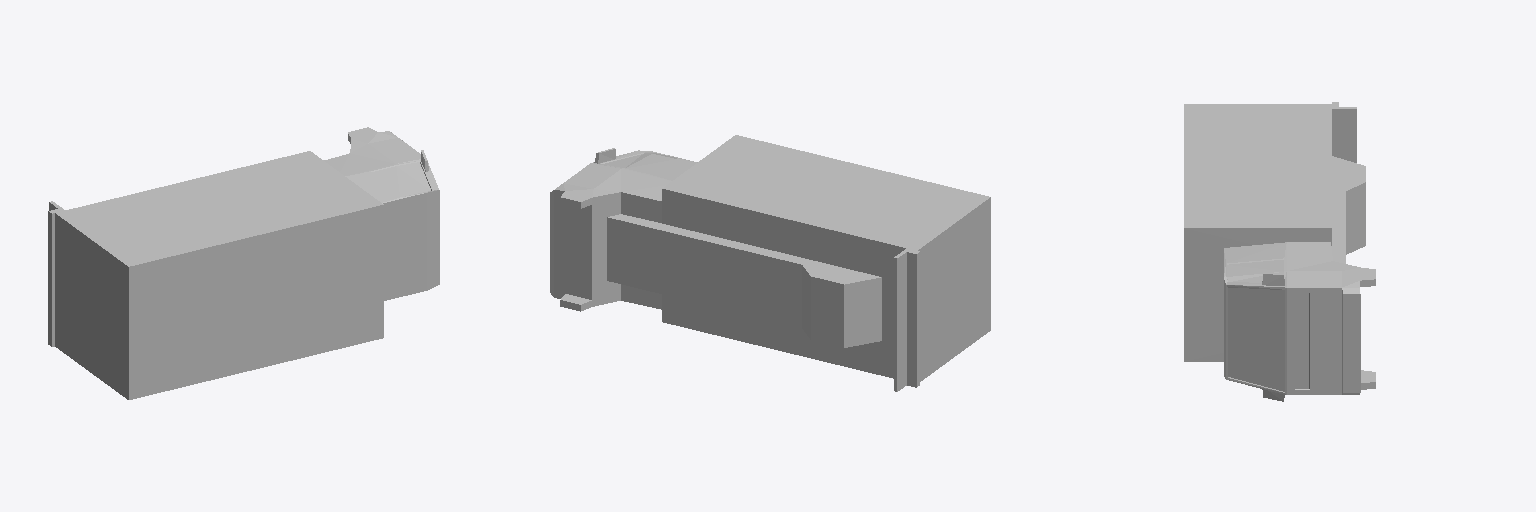
File: igs_truck_small_box.obj
3 renders of one model, left to right at view 1: azimuth 30°, elevation 25°; view 2: azimuth 150°, elevation 25°; view 3: azimuth 270°, elevation 25°, orthographic.
Bounding box in the file's own units: 0.5583 × 0.2 × 0.2594.